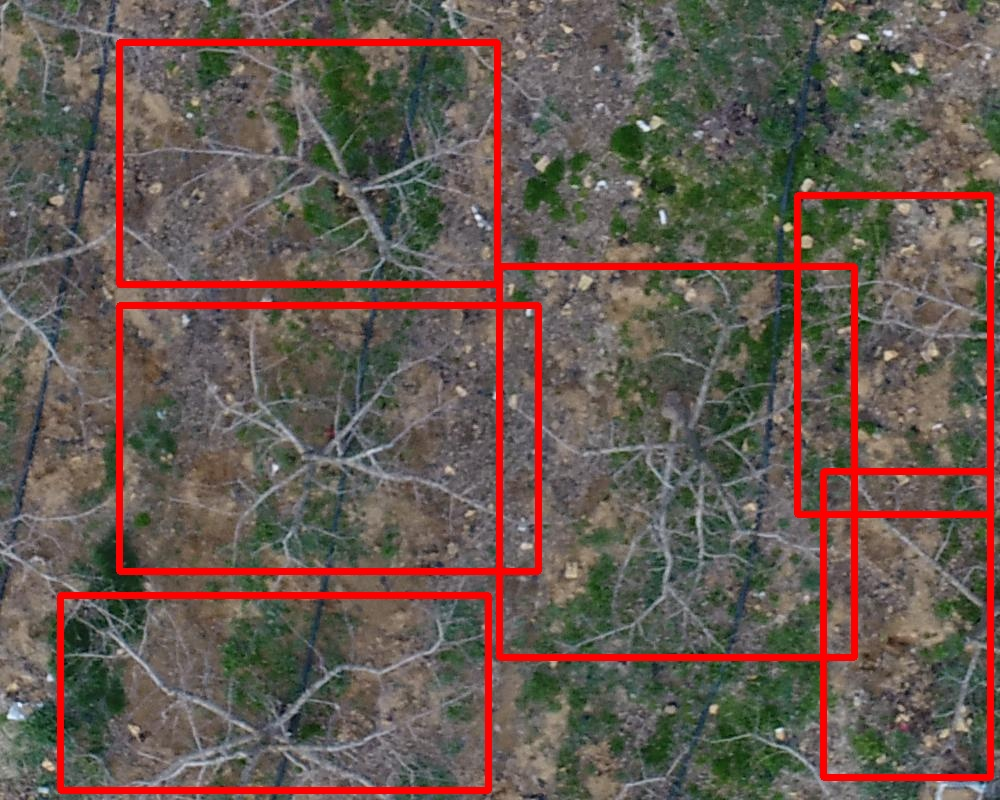apple: (499, 266, 854, 657), (119, 305, 538, 571), (119, 42, 497, 284), (60, 595, 488, 790), (797, 195, 990, 514), (823, 471, 990, 777)
